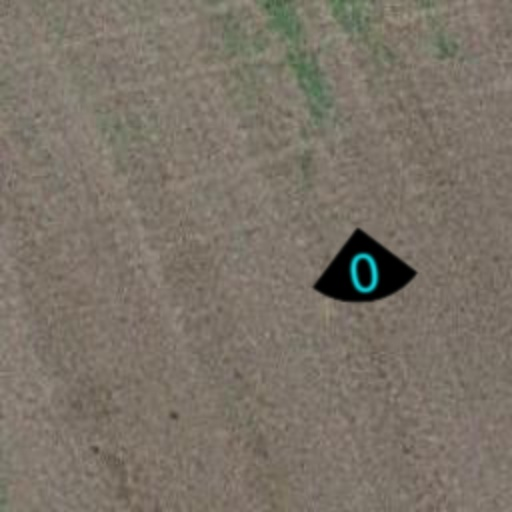quarter_circle: (306, 214, 422, 330)
